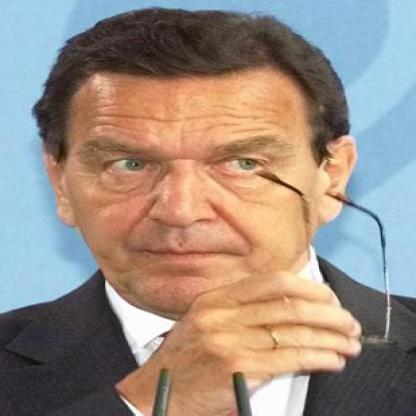face: (69, 19, 327, 316)
